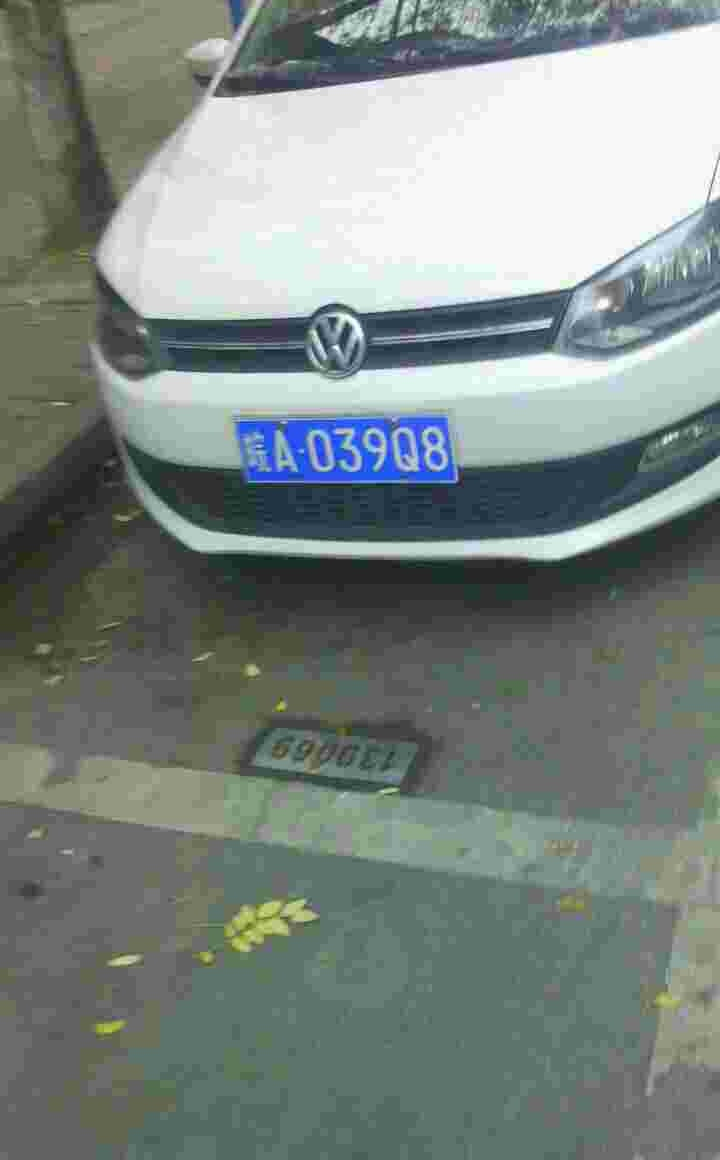car: (228, 418, 464, 491)
